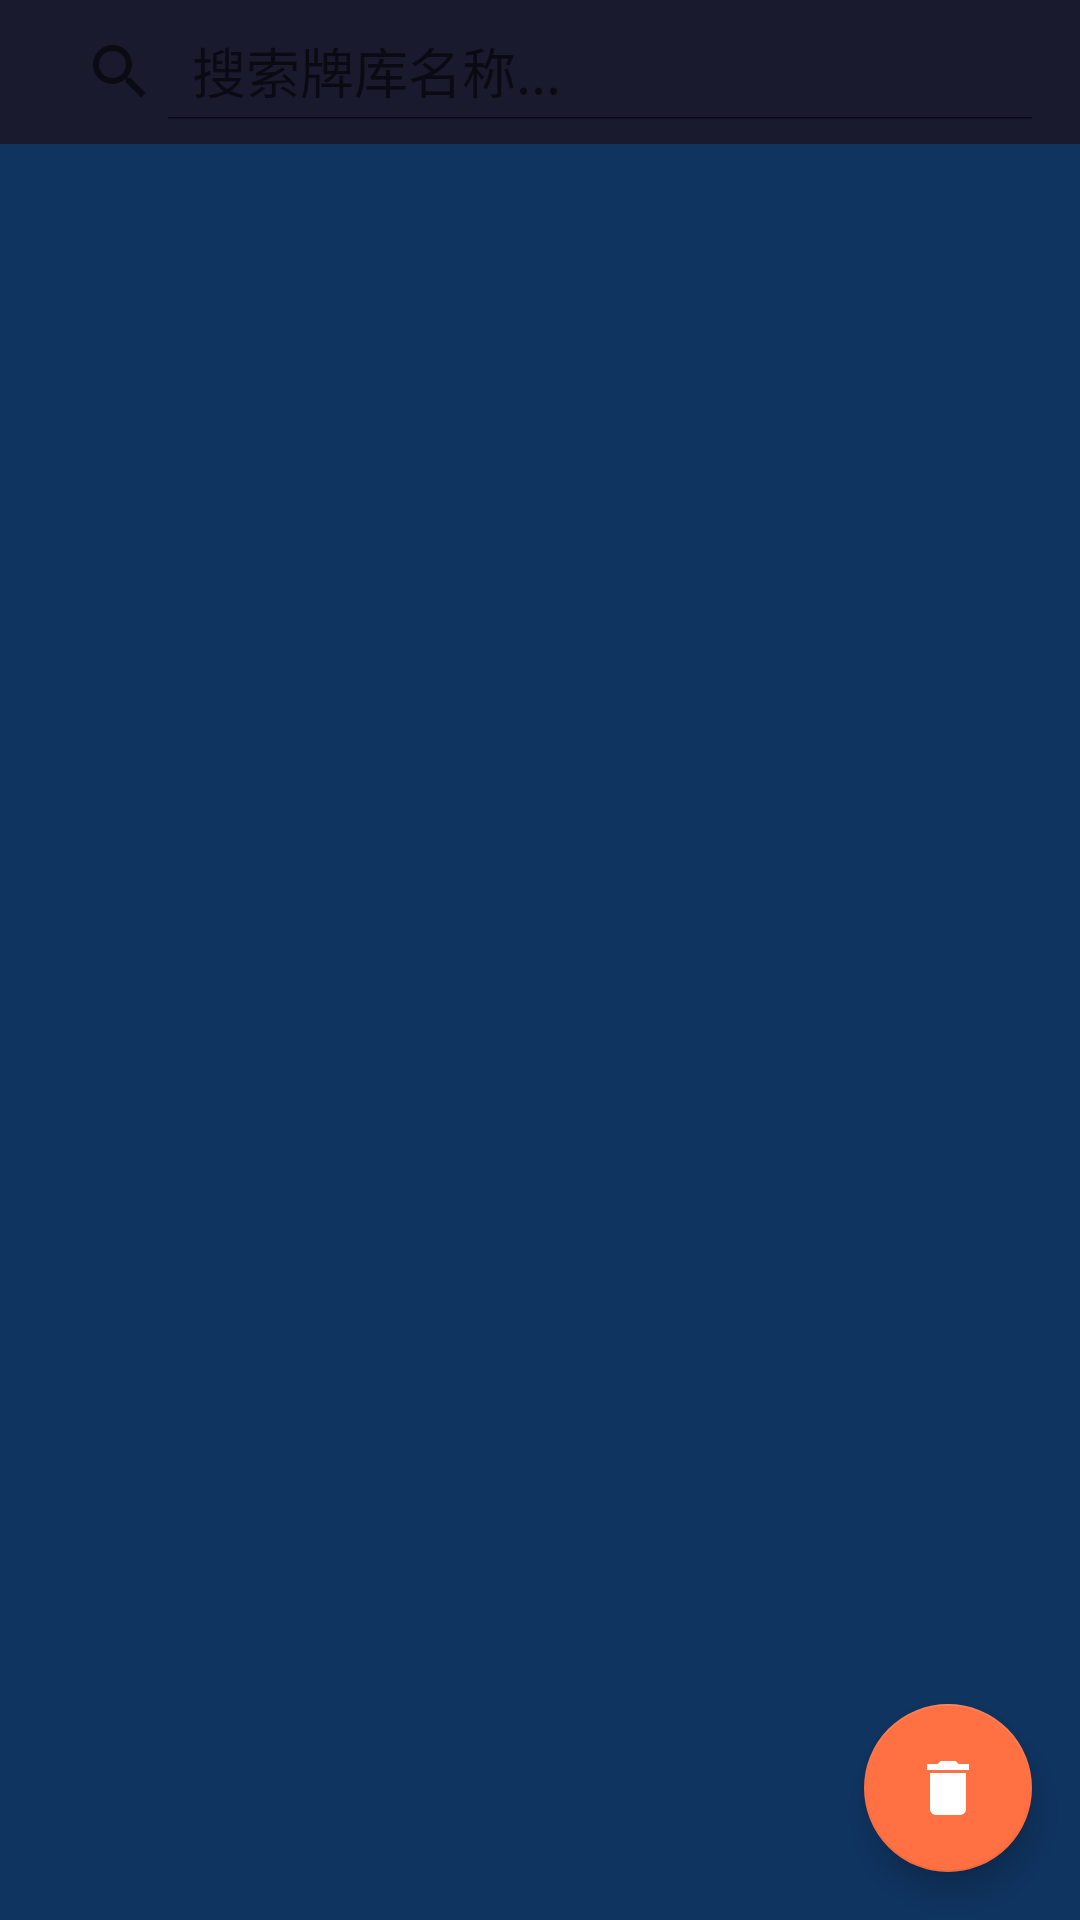

Named icons in this screenshot (1080x1920) and their bounding boxes, region(x1, y1, x2, y2):
清空全部: region(864, 1704, 1032, 1872)
